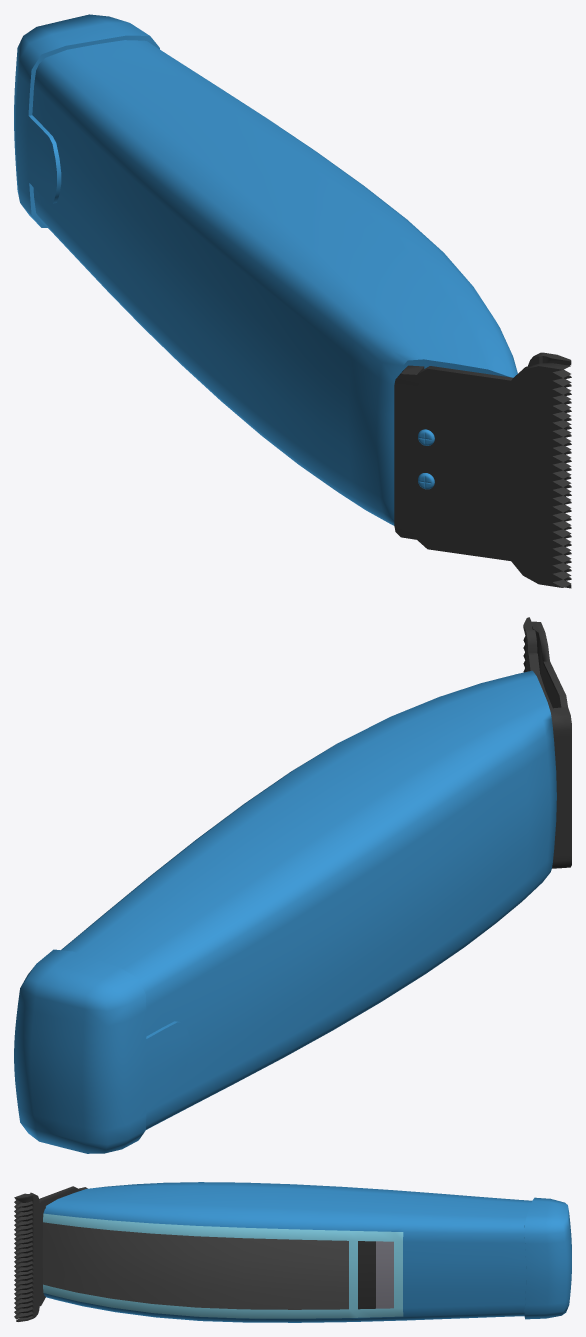
The model's file is Trimmer_M.fbx.
The picture shows the model from 3 angles, top to bottom: view 1: azimuth 30°, elevation 25°; view 2: azimuth 150°, elevation 25°; view 3: azimuth 270°, elevation 25°; orthographic projection. The views are drawn at different scales.
Parts seen in each view (by area): view 1: Trimmer_M; view 2: Trimmer_M; view 3: Trimmer_M.
Boxes of the visible parts, x1,y1,x2,y2 form: Trimmer_M: [14, 14, 571, 588]; Trimmer_M: [14, 617, 571, 1153]; Trimmer_M: [14, 1182, 571, 1322].
Bounding box in the file's own units: 3.59 × 4.58 × 18.46.
